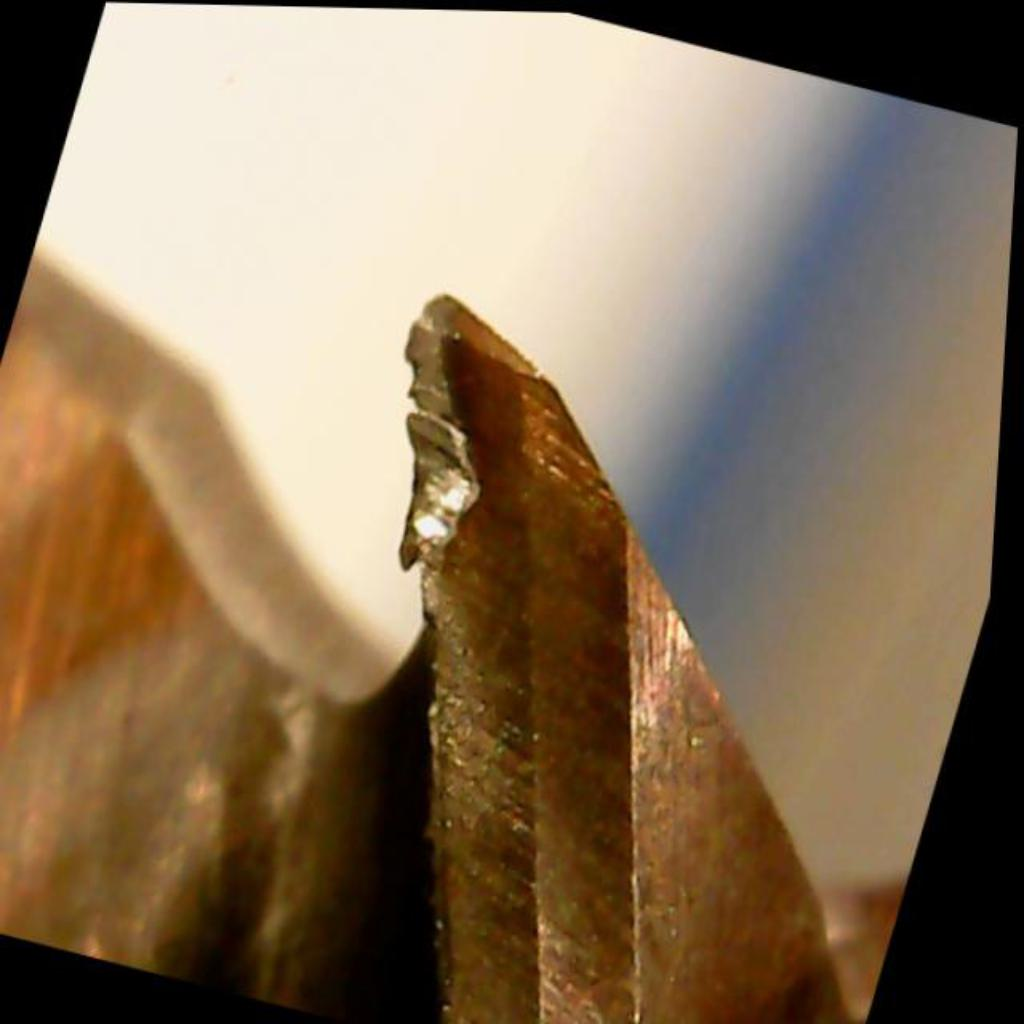Tool-wear-class-2: (290, 261, 682, 733)
